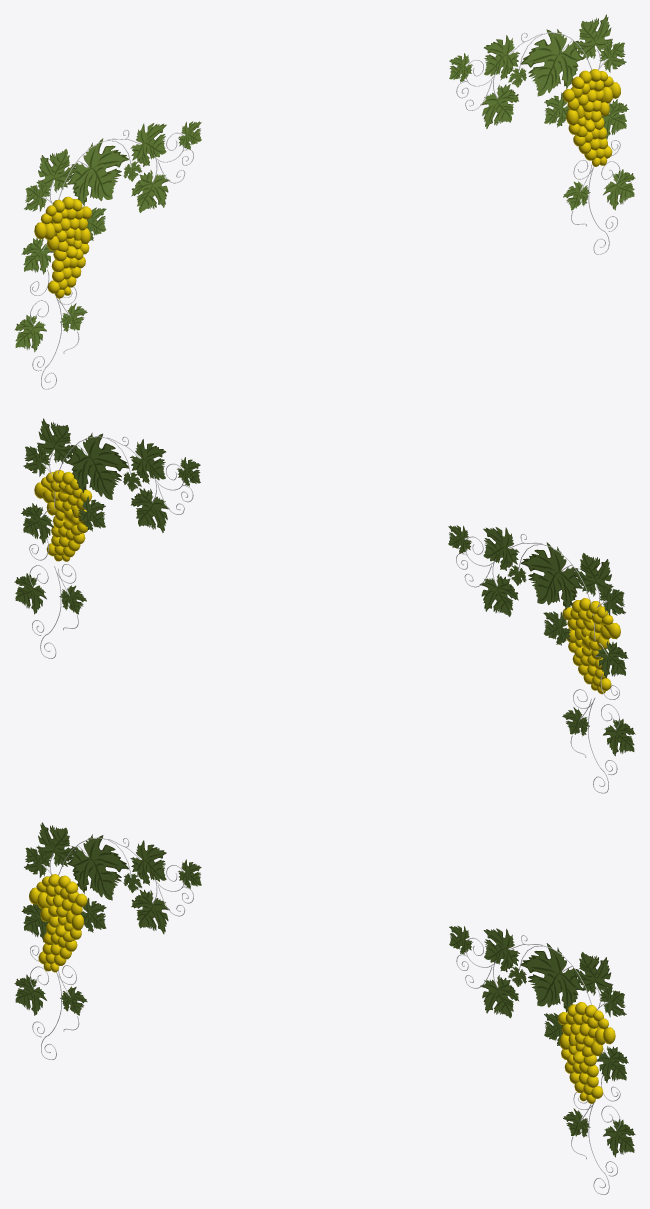
The model's file is FSM-Yazi160825.gltf.
3 renders of one model, top to bottom at view 1: azimuth 30°, elevation 25°; view 2: azimuth 150°, elevation 25°; view 3: azimuth 330°, elevation 25°, orthographic.
Parts seen in each view (by area): view 1: Dal, Cube.004, Cube.005, Cube.007, Cube.023, Cube.001, Cube.003, Cube.022, Cube.006, Cube.010, Cube.024, Cube.008; view 2: Dal, Cube.004, Cube.005, Cube.007, Cube.023, Cube.022, Cube.001, Cube.003, Cube.006, Cube.024, Cube.010, Cube.008; view 3: Dal, Cube.005, Cube.004, Cube.007, Cube.023, Cube.003, Cube.001, Cube.022, Cube.006, Cube.010, Cube.024, Cube.008.
Boxes of the visible parts, x1,y1,x2,y2 form: Dal: (21, 14, 620, 389); Cube.004: (34, 196, 91, 298); Cube.005: (562, 69, 620, 166); Cube.007: (521, 29, 583, 96); Cube.023: (67, 138, 128, 206); Cube.001: (480, 84, 518, 128); Cube.003: (131, 170, 170, 212); Cube.022: (36, 149, 74, 192); Cube.006: (603, 169, 635, 210); Cube.010: (14, 314, 46, 352); Cube.024: (601, 99, 628, 139); Cube.008: (599, 40, 626, 72); Dal: (29, 418, 628, 793); Cube.004: (562, 598, 620, 694); Cube.005: (34, 470, 92, 561); Cube.007: (67, 432, 128, 499); Cube.023: (521, 542, 582, 610); Cube.022: (574, 553, 613, 596); Cube.001: (131, 488, 169, 532); Cube.003: (479, 574, 518, 616); Cube.006: (14, 573, 46, 614); Cube.024: (21, 503, 54, 544); Cube.010: (603, 718, 635, 756); Cube.008: (23, 444, 50, 476); Dal: (21, 837, 620, 1194); Cube.005: (557, 1002, 615, 1103); Cube.004: (29, 874, 87, 972); Cube.007: (520, 943, 583, 1012); Cube.023: (67, 834, 128, 900); Cube.003: (131, 889, 170, 934); Cube.001: (480, 975, 518, 1018); Cube.022: (36, 822, 74, 866); Cube.006: (603, 1119, 635, 1157); Cube.010: (14, 974, 46, 1015); Cube.024: (596, 1046, 628, 1082); Cube.008: (599, 985, 626, 1017).
Size of the model in its own units: 4.55 by 1.7 by 0.1249.
Materials: 5 (1 with a texture image).
